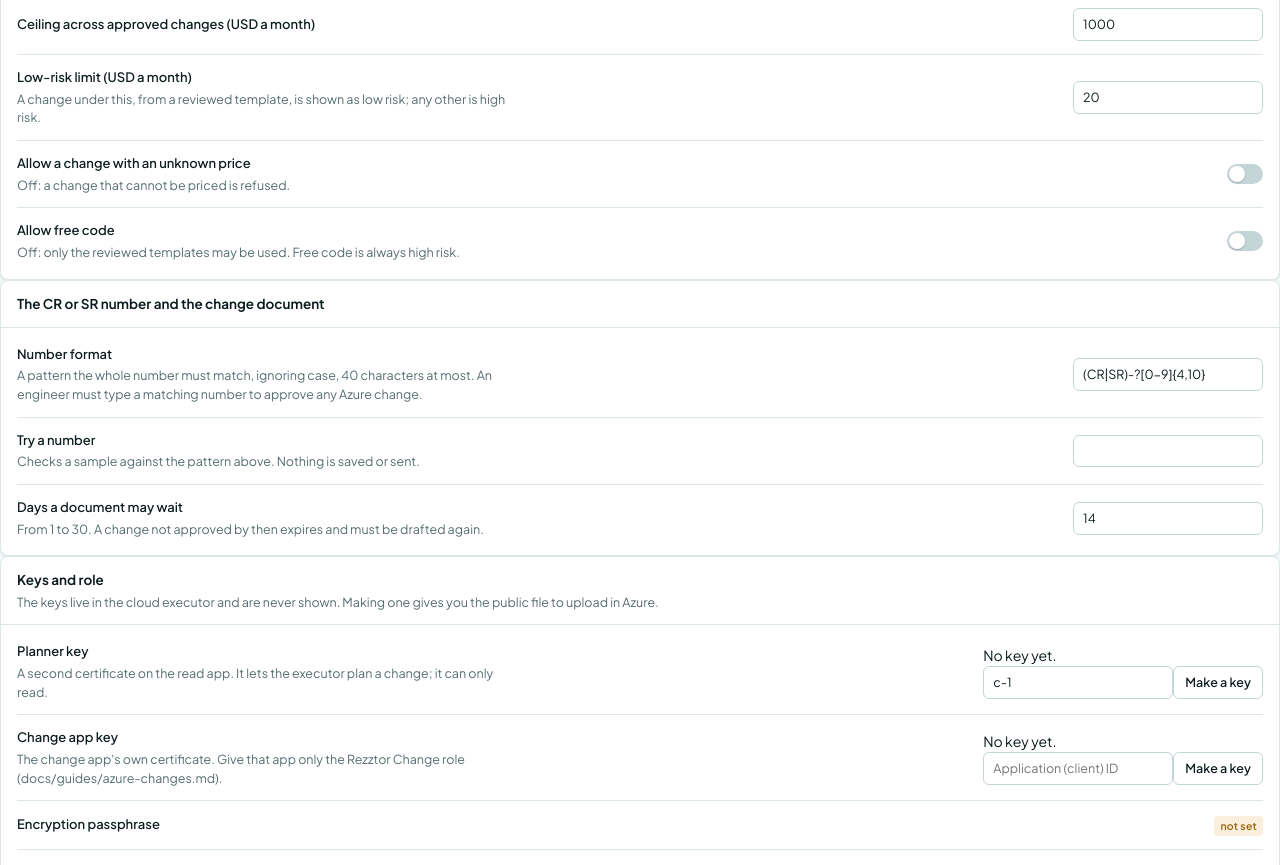
Scenario: the reference pattern › has a test box that says whether a sample matches, and saves nothing
(page scrolled)
Type "cr-123456" into the field named "Sample number" at [1168, 451], box [1073,434,1263,467]
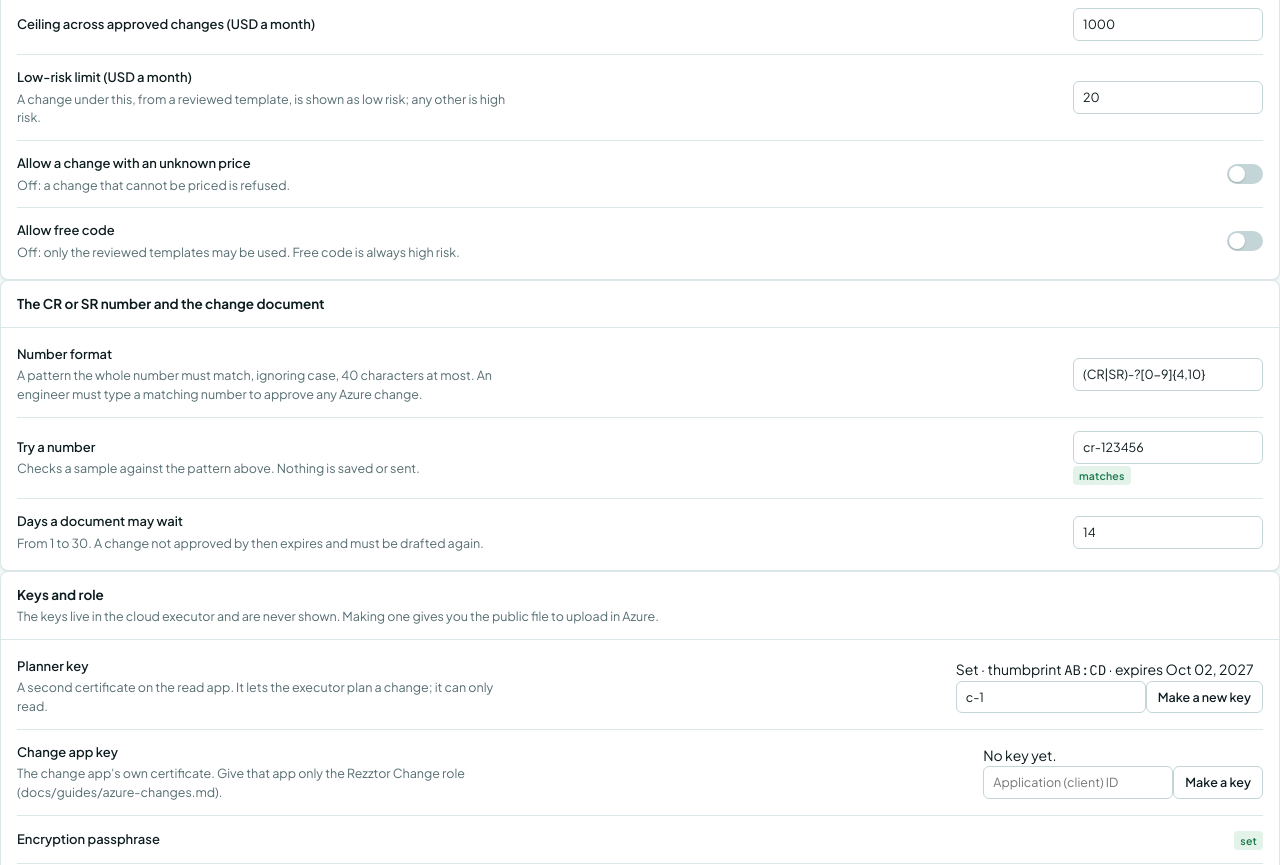
Expected: the element with test id "reference-sample" reads "matches", [1079,468,1125,482]
Replace the text in the field named "Sample number" with "CR-12" at [1168, 447], box [1073,431,1263,464]
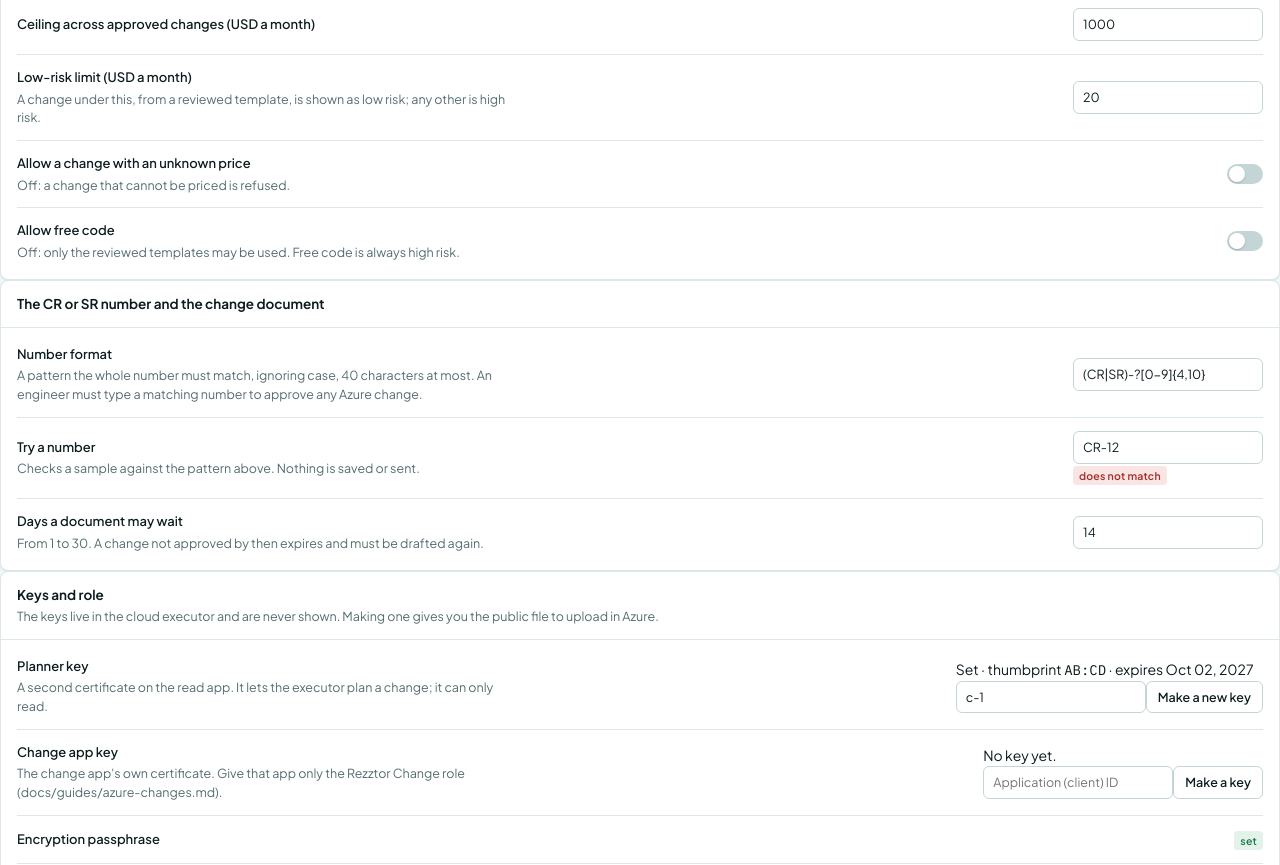
Expected: the element with test id "reference-sample" reads "does not match", [1079,468,1161,482]
